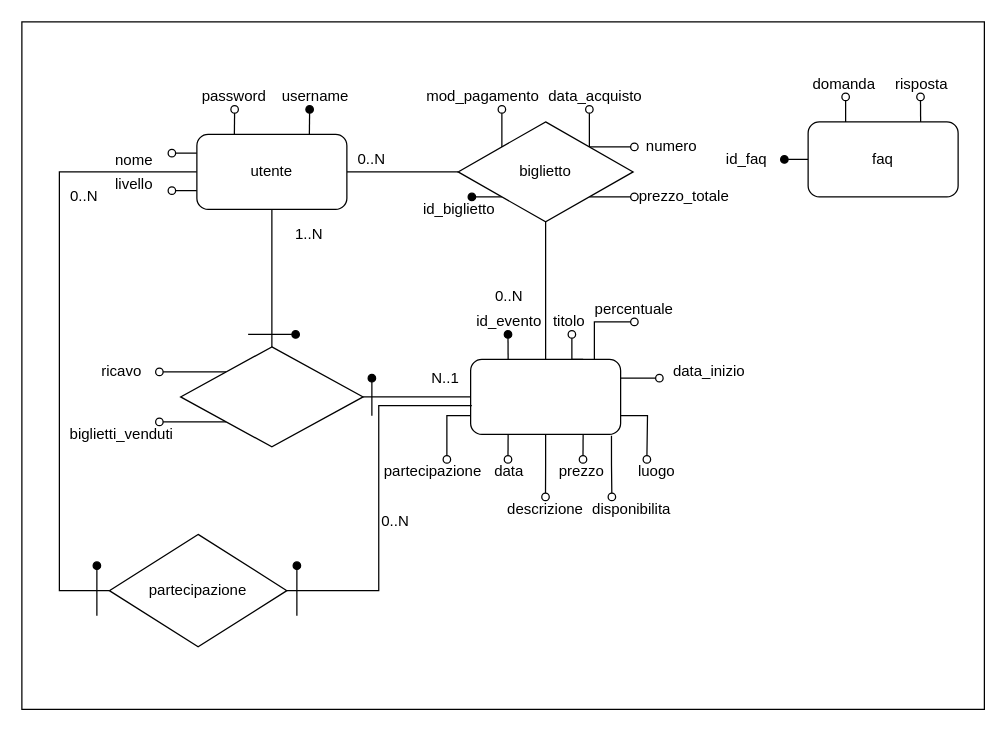
The diagram is 1006 pixels wide and 731 high, and some of its shapes have lost their labels. Each missing label, with the centre of its shape:
"evento" goes at pixel 545 396.
"gestione" goes at pixel 271 396.
